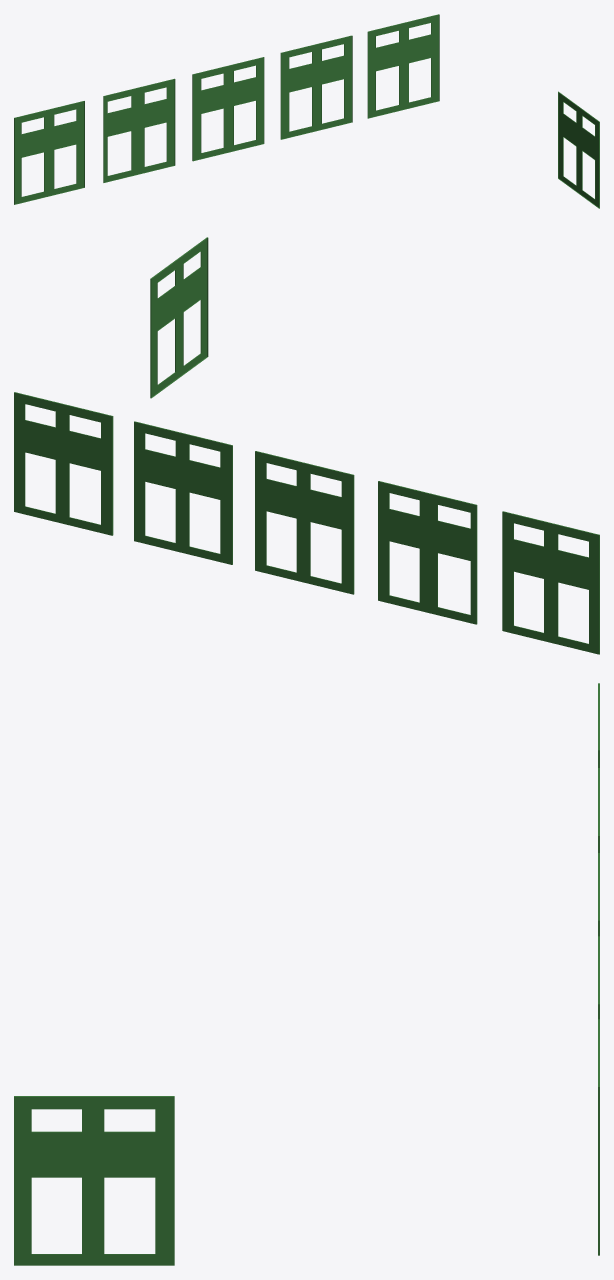
File: SM_Windows_Shadowbox.fbx
3 renders of one model, top to bottom at view 1: azimuth 30°, elevation 25°; view 2: azimuth 150°, elevation 25°; view 3: azimuth 270°, elevation 25°, orthographic. The views are drawn at different scales.
Parts seen in each view (by area): view 1: SM_Windows_Shadowbox; view 2: SM_Windows_Shadowbox; view 3: SM_Windows_Shadowbox.
Boxes of the visible parts, <box> form: SM_Windows_Shadowbox: <box>14,14,599,208</box>; SM_Windows_Shadowbox: <box>14,237,599,654</box>; SM_Windows_Shadowbox: <box>14,683,599,1265</box>.
Bounding box in the file's own units: 1340 × 255 × 802.
